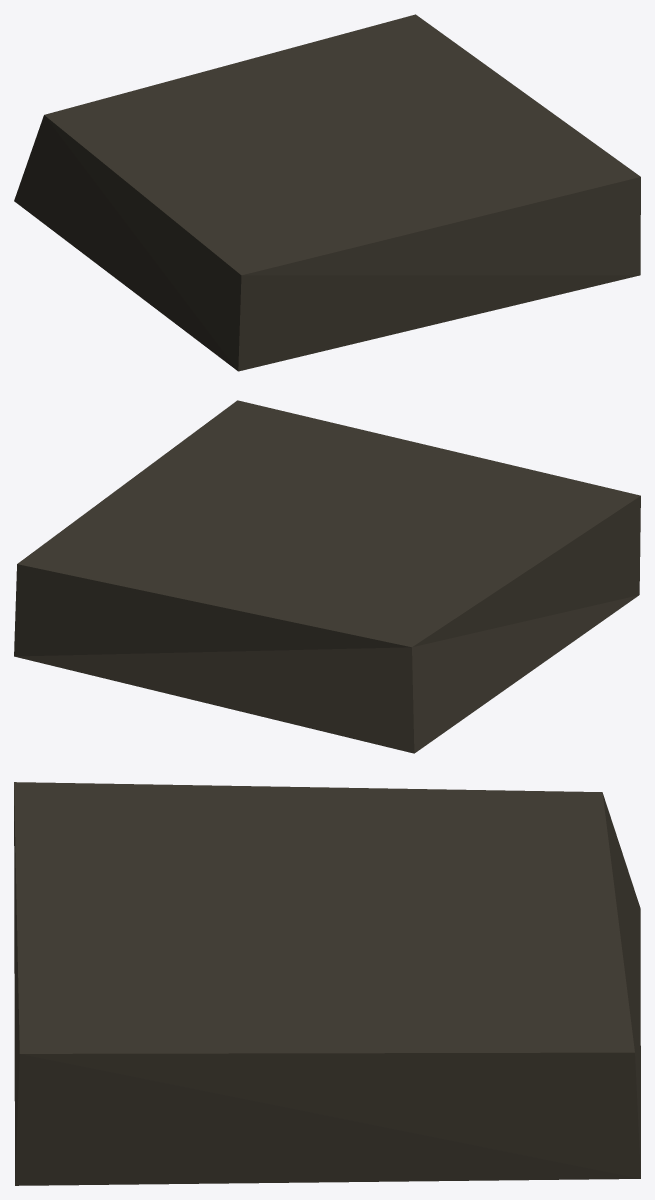
The model's file is Brick_Single_8_LOD.fbx.
3 renders of one model, top to bottom at view 1: azimuth 30°, elevation 25°; view 2: azimuth 150°, elevation 25°; view 3: azimuth 270°, elevation 25°, orthographic. The views are drawn at different scales.
Parts seen in each view (by area): view 1: Group63035; view 2: Group63035; view 3: Group63035.
Boxes of the visible parts, x1,y1,x2,y2 form: Group63035: (14, 14, 640, 371); Group63035: (14, 400, 640, 753); Group63035: (14, 782, 640, 1185).
Size of the model in its own units: 1.79 by 0.4163 by 1.75.
